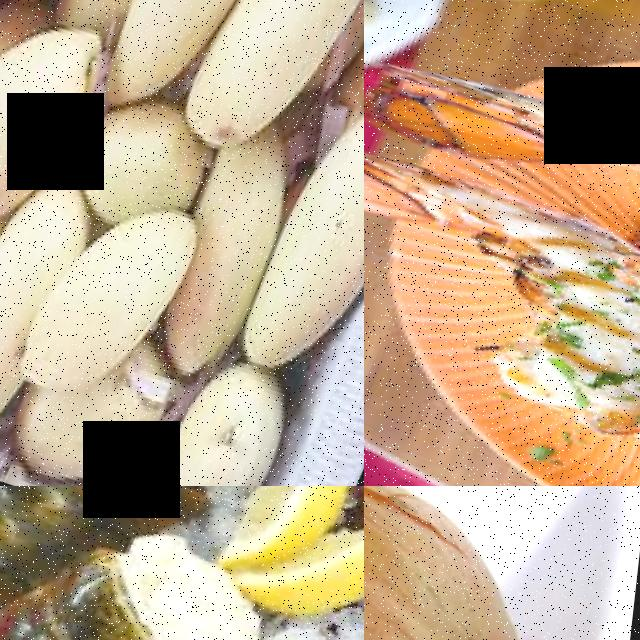lobster tails: (364, 25, 640, 283), (364, 118, 640, 344), (0, 527, 249, 640), (0, 486, 159, 640)
mango: (20, 187, 219, 416), (238, 60, 364, 388), (192, 0, 364, 144), (0, 0, 99, 241), (0, 199, 90, 462), (95, 0, 285, 116)
onion: (364, 486, 640, 640)
